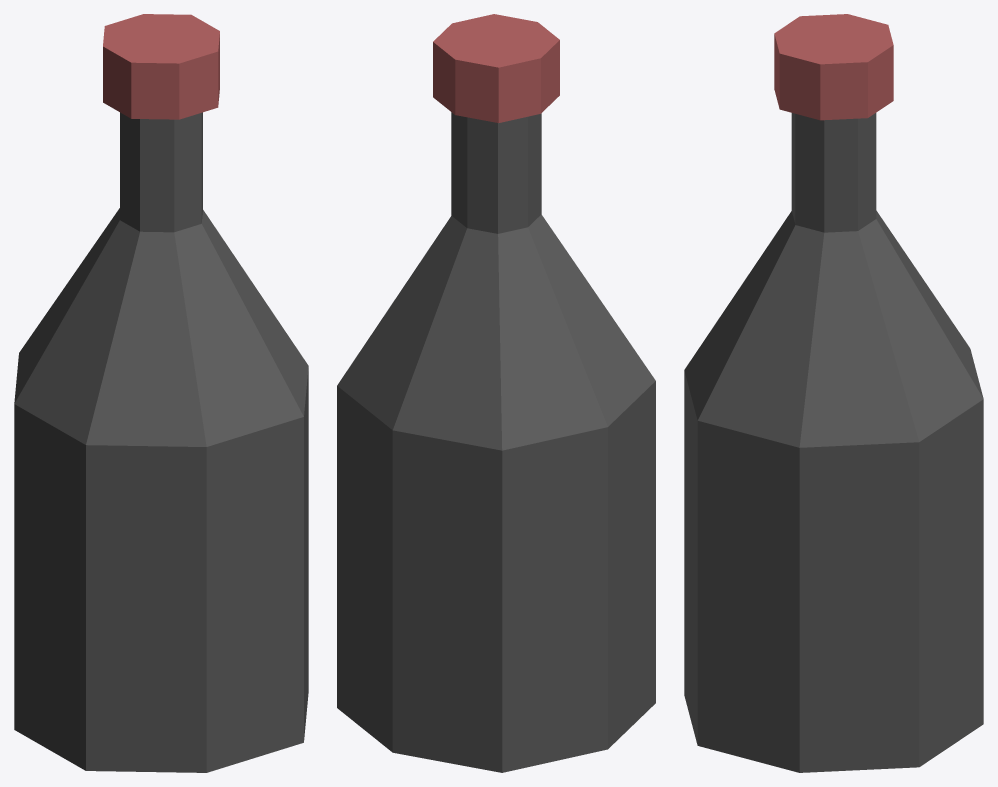
Rendered from Kitchen_Bottle5.fbx.
3 views of the same model, side by side, from view 1: azimuth 30°, elevation 25°; view 2: azimuth 150°, elevation 25°; view 3: azimuth 270°, elevation 25° (orthographic).
Visible parts, largest first — view 1: Kitchen_Bottle5; view 2: Kitchen_Bottle5; view 3: Kitchen_Bottle5.
Part boxes in pixels (x1,y1,x2,y2): Kitchen_Bottle5: (14, 14, 308, 772); Kitchen_Bottle5: (337, 14, 655, 772); Kitchen_Bottle5: (684, 14, 983, 772).
Size of the model in its own units: 17.39 by 42.96 by 17.39.
